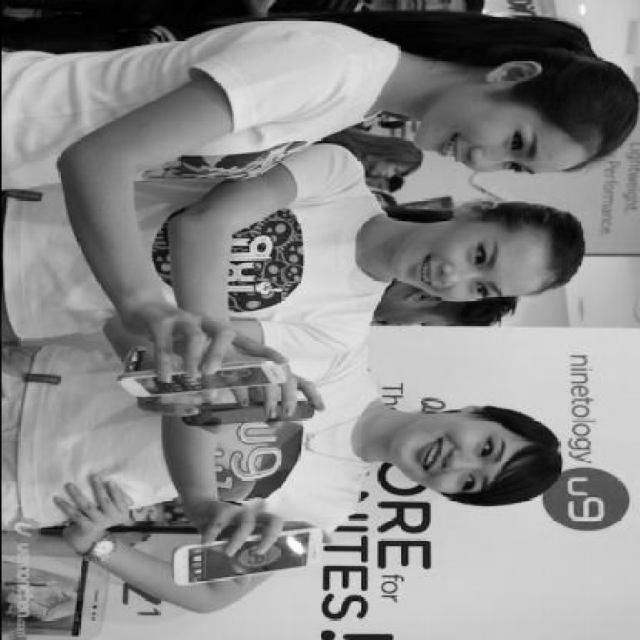fake: (169, 527, 326, 587), (2, 558, 106, 640), (116, 358, 289, 398), (178, 400, 314, 428)
real: (386, 218, 547, 308), (410, 103, 603, 178), (387, 410, 523, 502), (456, 428, 505, 495), (469, 240, 500, 300), (502, 116, 532, 174)
